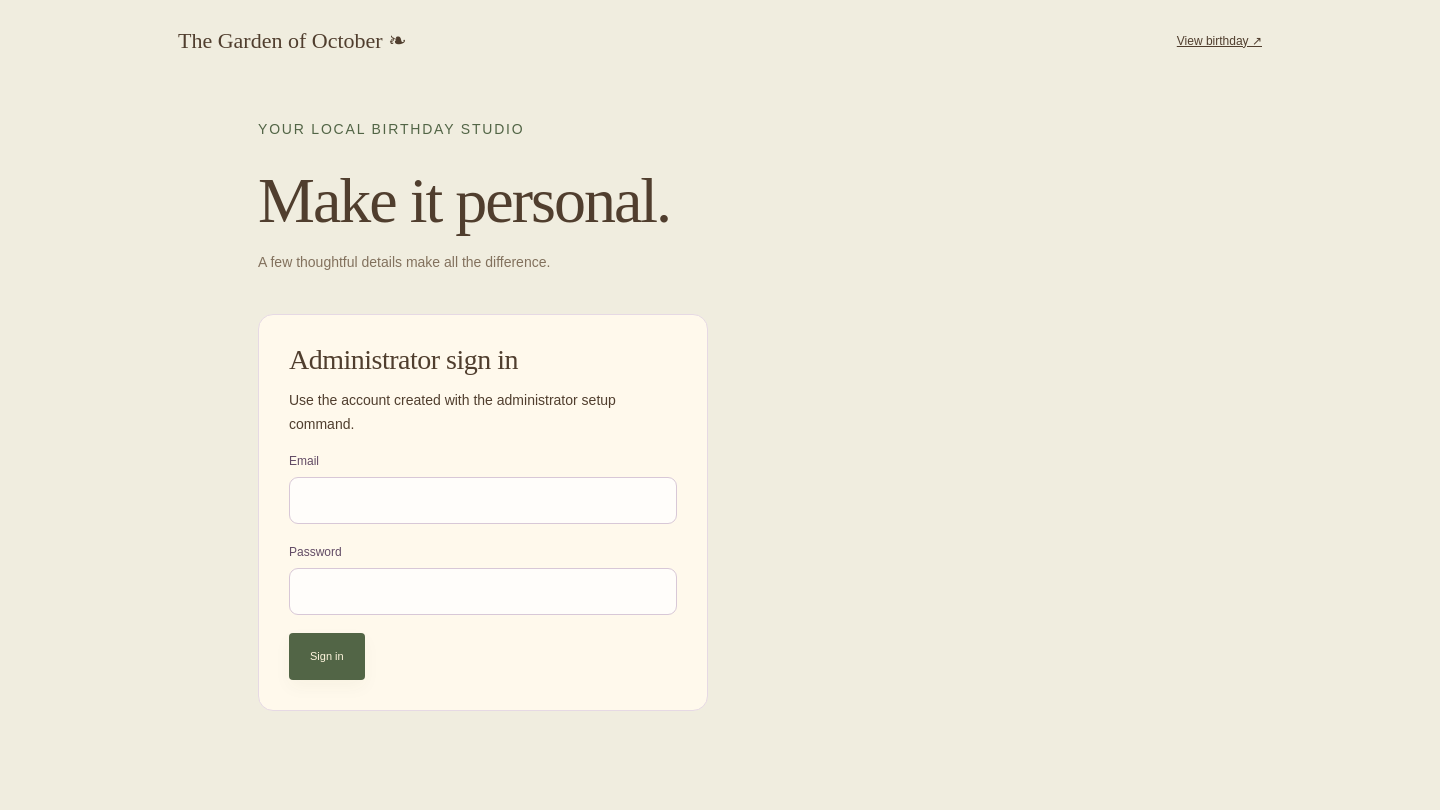
Test: preserves edited text after a failed save and disables publishing unsaved changes
Type "admin@example.com" into the field labelled "Email".
click(483, 501); type("admin@example.com")  # box [289,477,677,524]
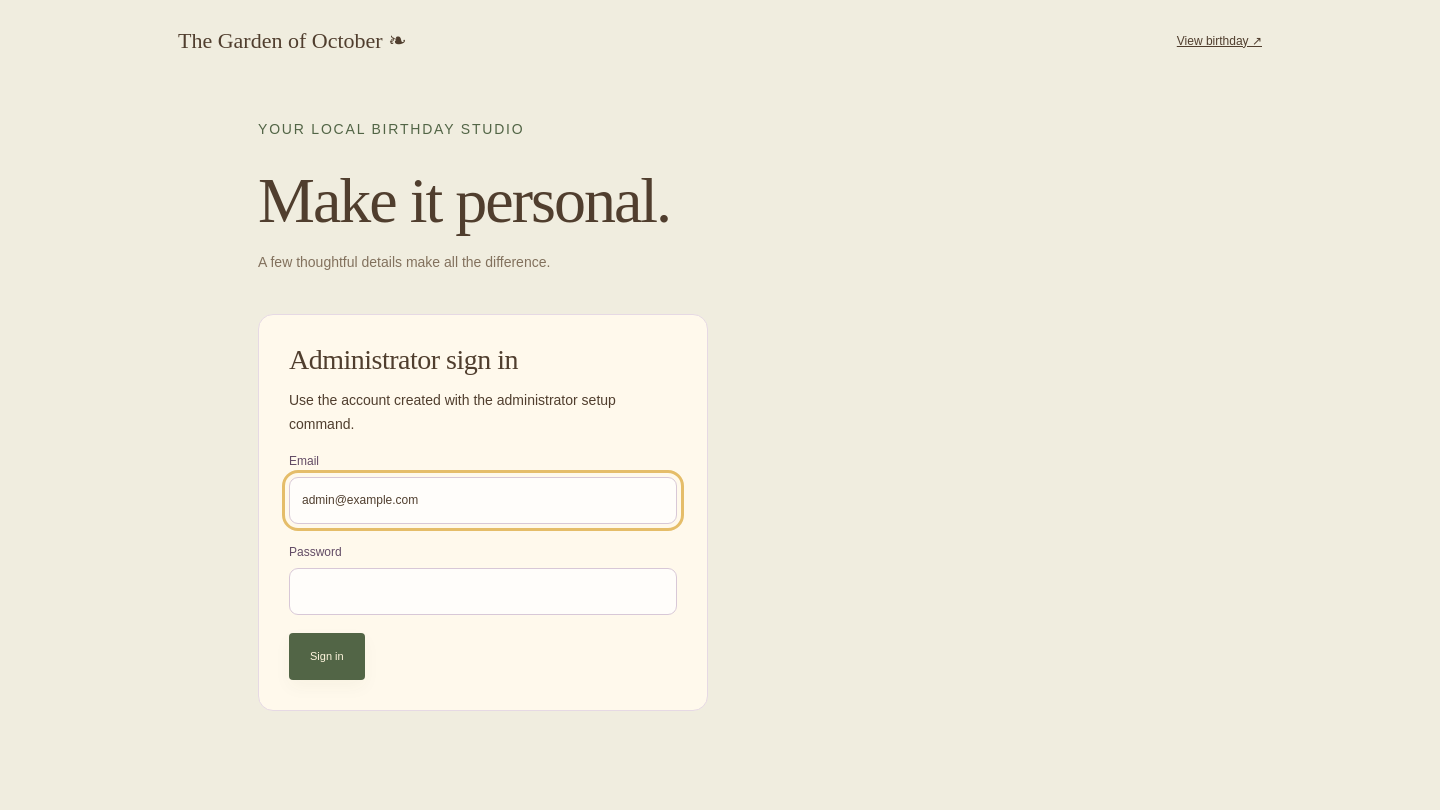
Type "a-valid-long-password" into the password field labelled "Password".
click(483, 591); type("a-valid-long-password")  # box [289,568,677,615]
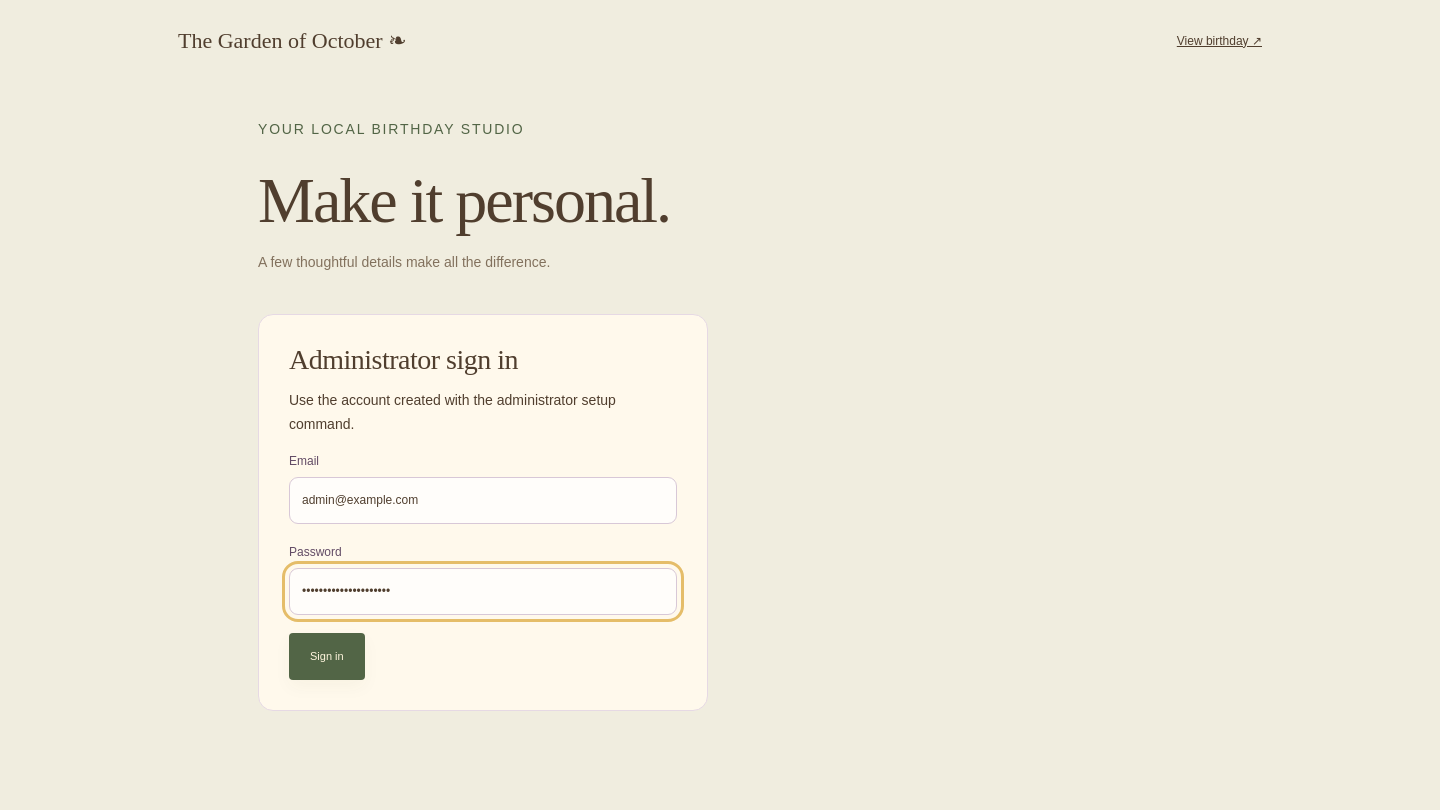
Click the button "Sign in".
click(327, 656)  # box [289,633,365,680]
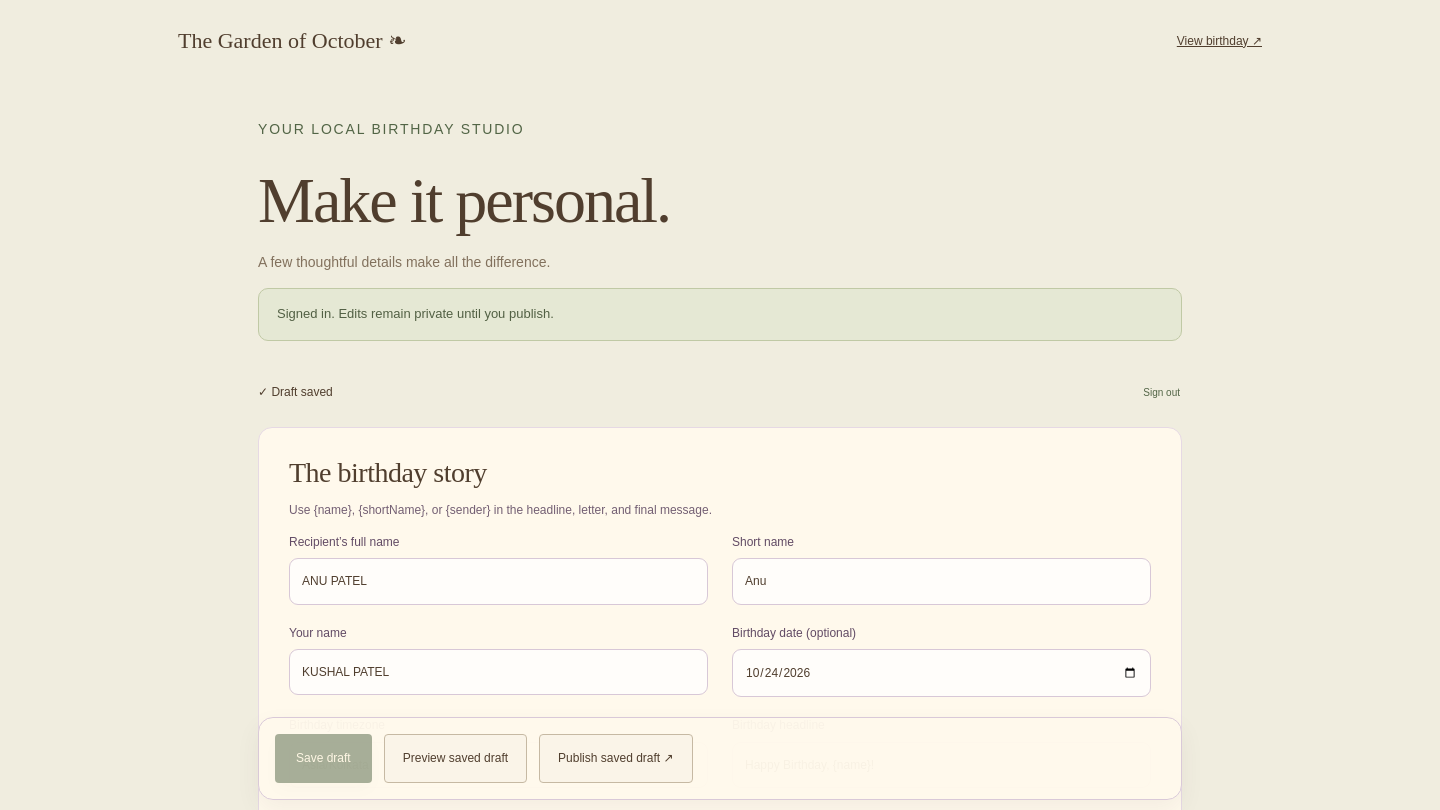
Replace the text in the field labelled "Recipient’s full name" with "ANU EDITED" at x=498, y=582, box [289,558,708,605]
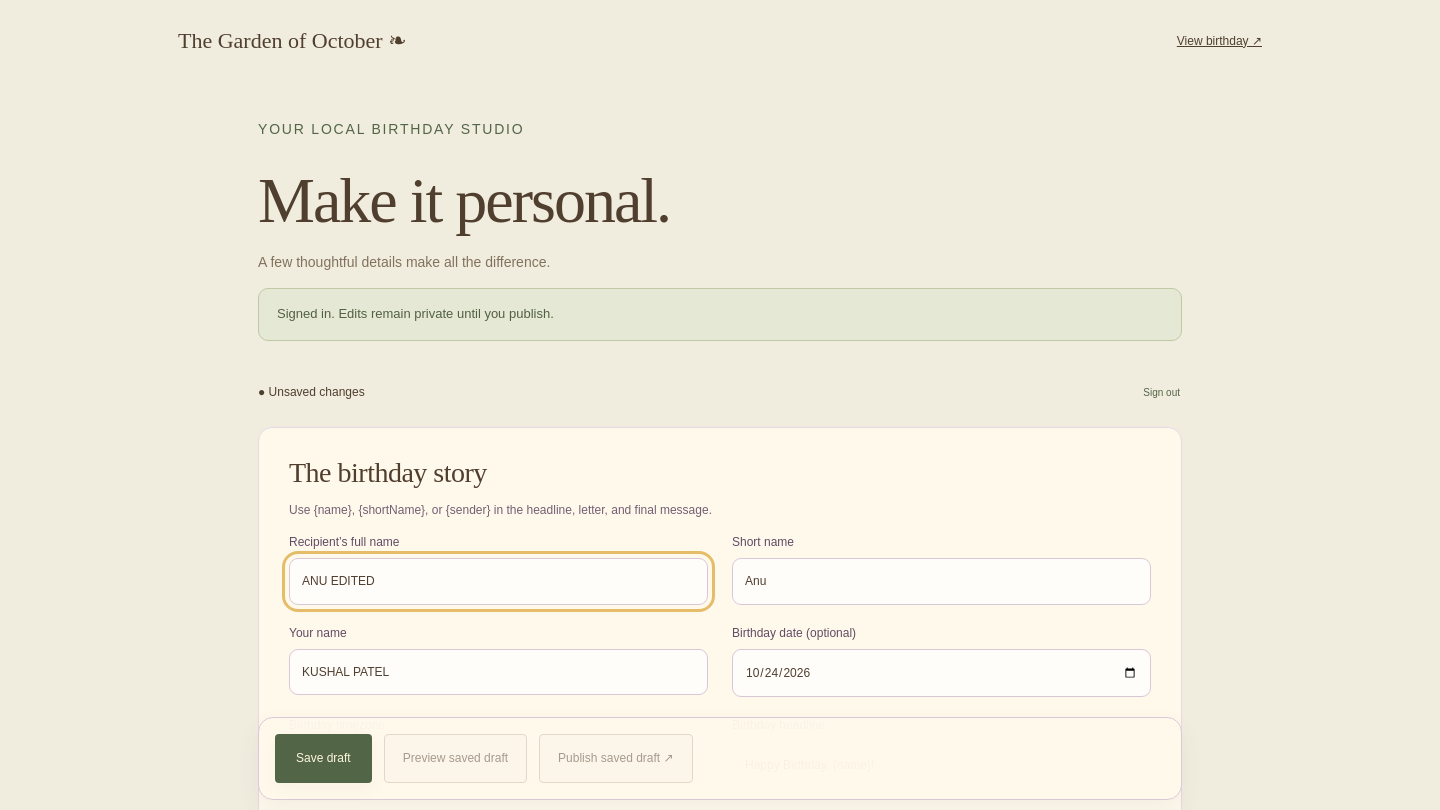
expect the button "Publish saved draft ↗" is disabled: met, box [539,734,693,783]
Click the button "Save draft".
click(323, 758)  # box [275,734,372,783]
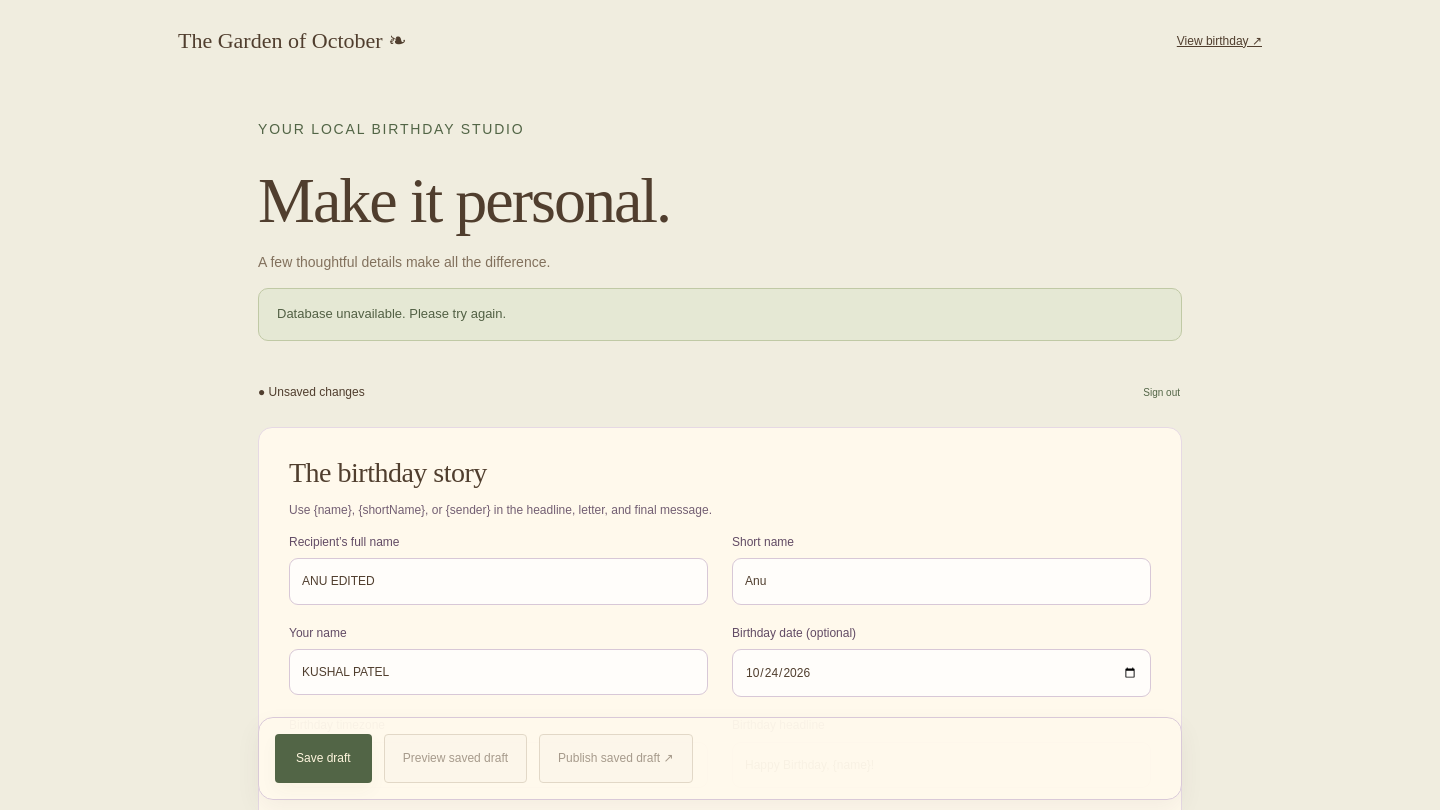
expect the button "Save draft" is enabled: met, box [275,734,372,783]
expect the message shows "Database unavailable": met, box [277,306,506,322]
